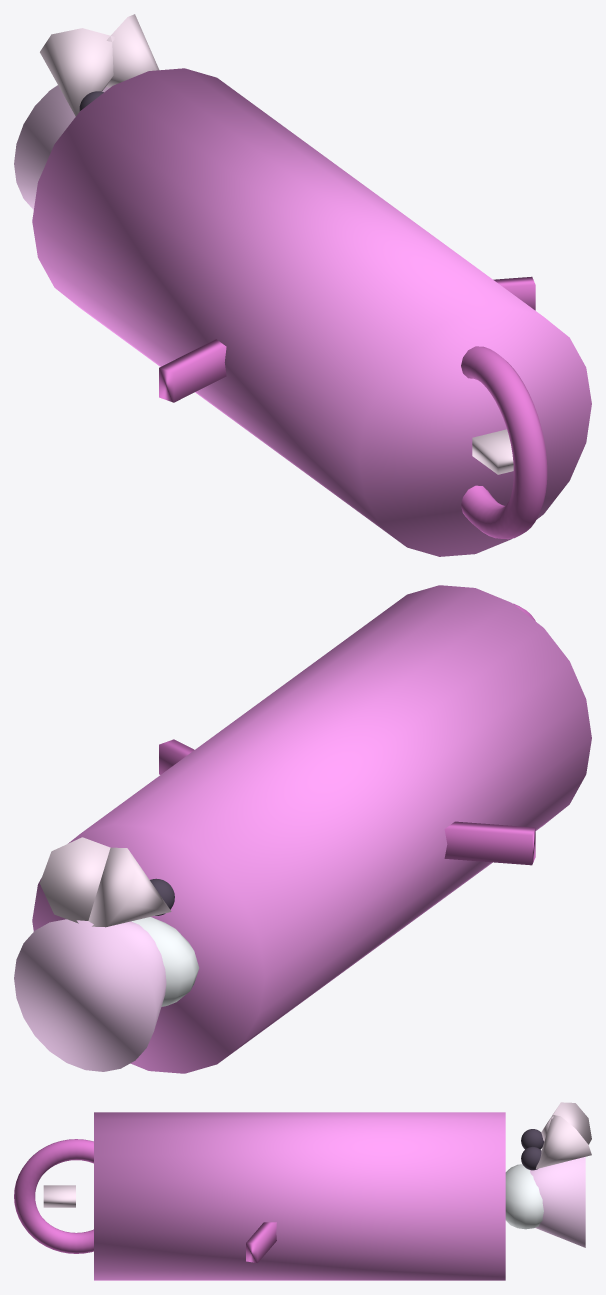
Rendered from CatRocket_1.fbx.
3 views of the same model, one above another, from view 1: azimuth 30°, elevation 25°; view 2: azimuth 150°, elevation 25°; view 3: azimuth 270°, elevation 25° (orthographic). The views are drawn at different scales.
Visible parts, largest first — view 1: CatRocket_Body, CatRocket_TailRing, CatRocket_Ear_-1, CatRocket_Nose, CatRocket, CatRocket_Wing_-1, CatRocket_Tail; view 2: CatRocket_Body, CatRocket_Nose, CatRocket, CatRocket_Ear_-1, CatRocket_Wing_-1, CatRocket_Cockpit; view 3: CatRocket_Body, CatRocket_TailRing, CatRocket_Nose, CatRocket, CatRocket_Cockpit, CatRocket_Ear_-1, CatRocket_Tail, CatRocket_Eye_-1.
Boxes of the visible parts, x1,y1,x2,y2 form: CatRocket_Body: [32, 68, 591, 556]; CatRocket_TailRing: [461, 346, 547, 539]; CatRocket_Ear_-1: [40, 28, 115, 116]; CatRocket_Nose: [14, 85, 109, 209]; CatRocket: [106, 14, 535, 310]; CatRocket_Wing_-1: [159, 339, 226, 402]; CatRocket_Tail: [472, 429, 513, 474]; CatRocket_Body: [32, 585, 591, 1073]; CatRocket_Nose: [14, 919, 166, 1071]; CatRocket: [39, 739, 194, 923]; CatRocket_Ear_-1: [88, 847, 171, 927]; CatRocket_Wing_-1: [444, 821, 535, 865]; CatRocket_Cockpit: [131, 917, 199, 1006]; CatRocket_Body: [94, 1112, 505, 1280]; CatRocket_TailRing: [14, 1139, 93, 1253]; CatRocket_Nose: [530, 1157, 585, 1247]; CatRocket: [246, 1115, 591, 1262]; CatRocket_Cockpit: [505, 1164, 543, 1229]; CatRocket_Ear_-1: [541, 1102, 591, 1144]; CatRocket_Tail: [43, 1185, 75, 1207]; CatRocket_Eye_-1: [521, 1129, 543, 1149].
Bounding box in the file's own units: 115 × 76.89 × 246.
